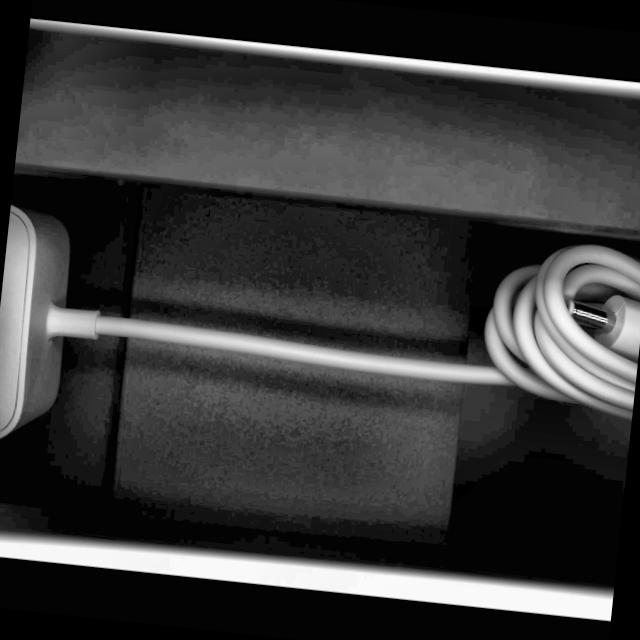Cable: (0, 170, 640, 512)
